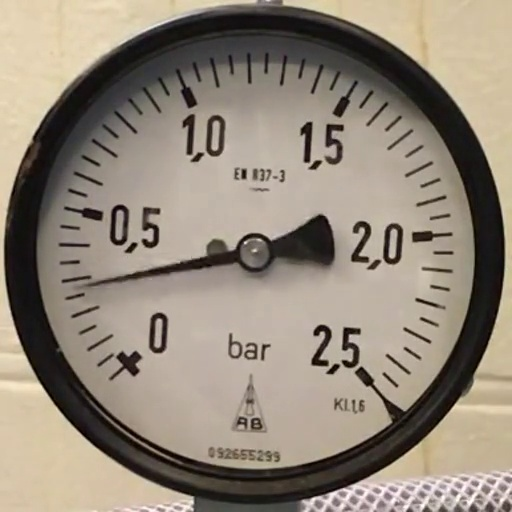base: (236, 233, 273, 274)
circle_plate: (36, 38, 470, 466)
maximum: (353, 365, 374, 387)
minimum: (116, 348, 142, 376)
number: (350, 220, 403, 270), (310, 324, 361, 375), (107, 204, 161, 252), (181, 112, 227, 163), (300, 121, 345, 171), (146, 310, 168, 356)
tip: (81, 279, 92, 289)
